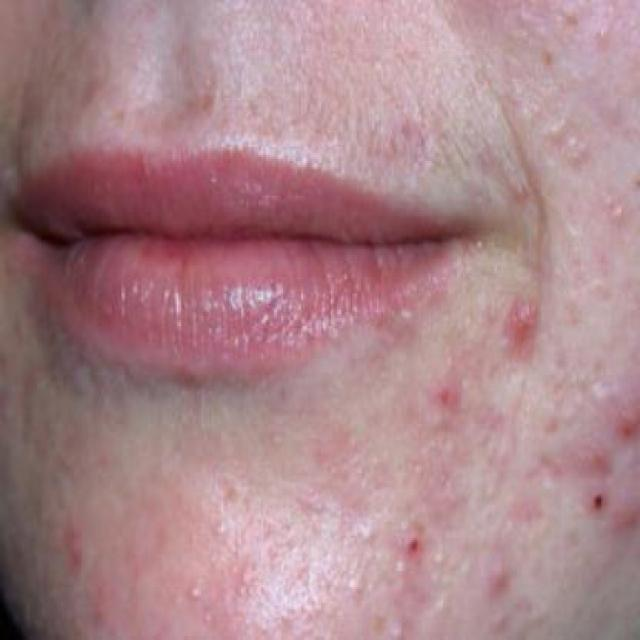blackheads: (568, 475, 623, 528), (395, 514, 434, 564)
papules: (500, 283, 549, 357), (602, 389, 638, 459)
whiteheads: (584, 173, 618, 216), (540, 110, 572, 149), (584, 18, 624, 49), (603, 200, 639, 232), (354, 516, 375, 560), (183, 583, 205, 613), (428, 546, 449, 577), (214, 510, 228, 542), (398, 560, 412, 583)
